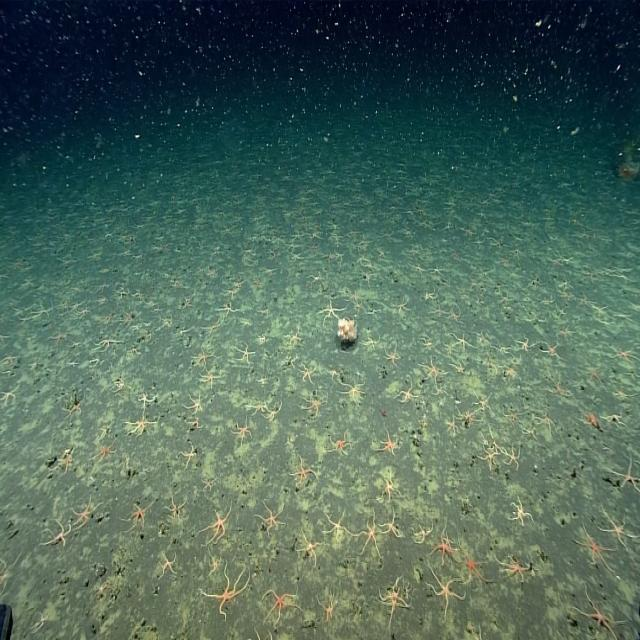brittle-stars: (575, 576, 628, 640), (200, 564, 252, 622), (426, 562, 468, 623), (571, 519, 615, 575), (596, 502, 639, 554), (604, 446, 640, 500), (377, 574, 413, 626), (452, 538, 491, 586), (259, 587, 300, 630), (493, 545, 532, 589), (352, 507, 382, 559), (430, 519, 462, 567), (195, 492, 229, 534), (294, 524, 326, 568), (119, 500, 155, 538), (37, 517, 73, 553), (416, 353, 448, 392), (68, 496, 100, 532), (321, 507, 352, 543), (254, 500, 284, 537), (336, 377, 371, 408), (492, 482, 523, 516), (372, 468, 406, 499), (540, 371, 574, 402), (314, 296, 346, 328), (288, 454, 319, 487), (122, 402, 156, 430), (324, 427, 353, 459), (474, 441, 501, 474), (59, 392, 87, 423), (378, 505, 403, 539), (88, 438, 116, 468), (315, 586, 337, 624), (228, 412, 252, 446), (374, 428, 400, 458), (450, 403, 478, 430), (533, 339, 562, 365), (56, 440, 78, 474), (300, 391, 327, 417), (163, 494, 187, 523), (394, 379, 419, 406), (186, 341, 213, 366), (449, 328, 477, 352), (43, 326, 69, 351), (409, 518, 434, 544), (155, 550, 178, 578), (470, 389, 495, 414), (199, 312, 223, 338), (501, 442, 520, 474), (258, 393, 282, 418), (498, 405, 523, 429), (211, 294, 235, 319), (358, 325, 381, 351), (91, 336, 123, 354), (180, 386, 202, 412), (234, 342, 256, 368), (174, 436, 196, 461), (380, 342, 402, 367), (194, 362, 216, 387), (390, 296, 415, 318), (414, 329, 438, 351), (345, 284, 365, 310), (491, 339, 514, 361), (598, 409, 626, 427), (496, 361, 520, 382), (441, 300, 462, 324), (0, 379, 20, 404), (147, 310, 174, 328), (135, 388, 156, 411), (535, 413, 558, 434), (471, 328, 491, 352), (299, 361, 318, 386), (514, 332, 533, 357), (241, 392, 263, 413), (306, 265, 324, 289), (117, 305, 135, 328), (283, 330, 303, 350), (444, 416, 462, 438), (182, 408, 202, 426), (70, 300, 90, 318), (446, 356, 466, 374), (421, 286, 441, 303), (520, 423, 538, 441), (196, 466, 212, 486), (110, 372, 127, 390), (255, 329, 269, 347), (326, 366, 342, 380), (254, 374, 271, 387), (222, 287, 236, 301), (128, 344, 142, 358), (252, 273, 263, 289)
